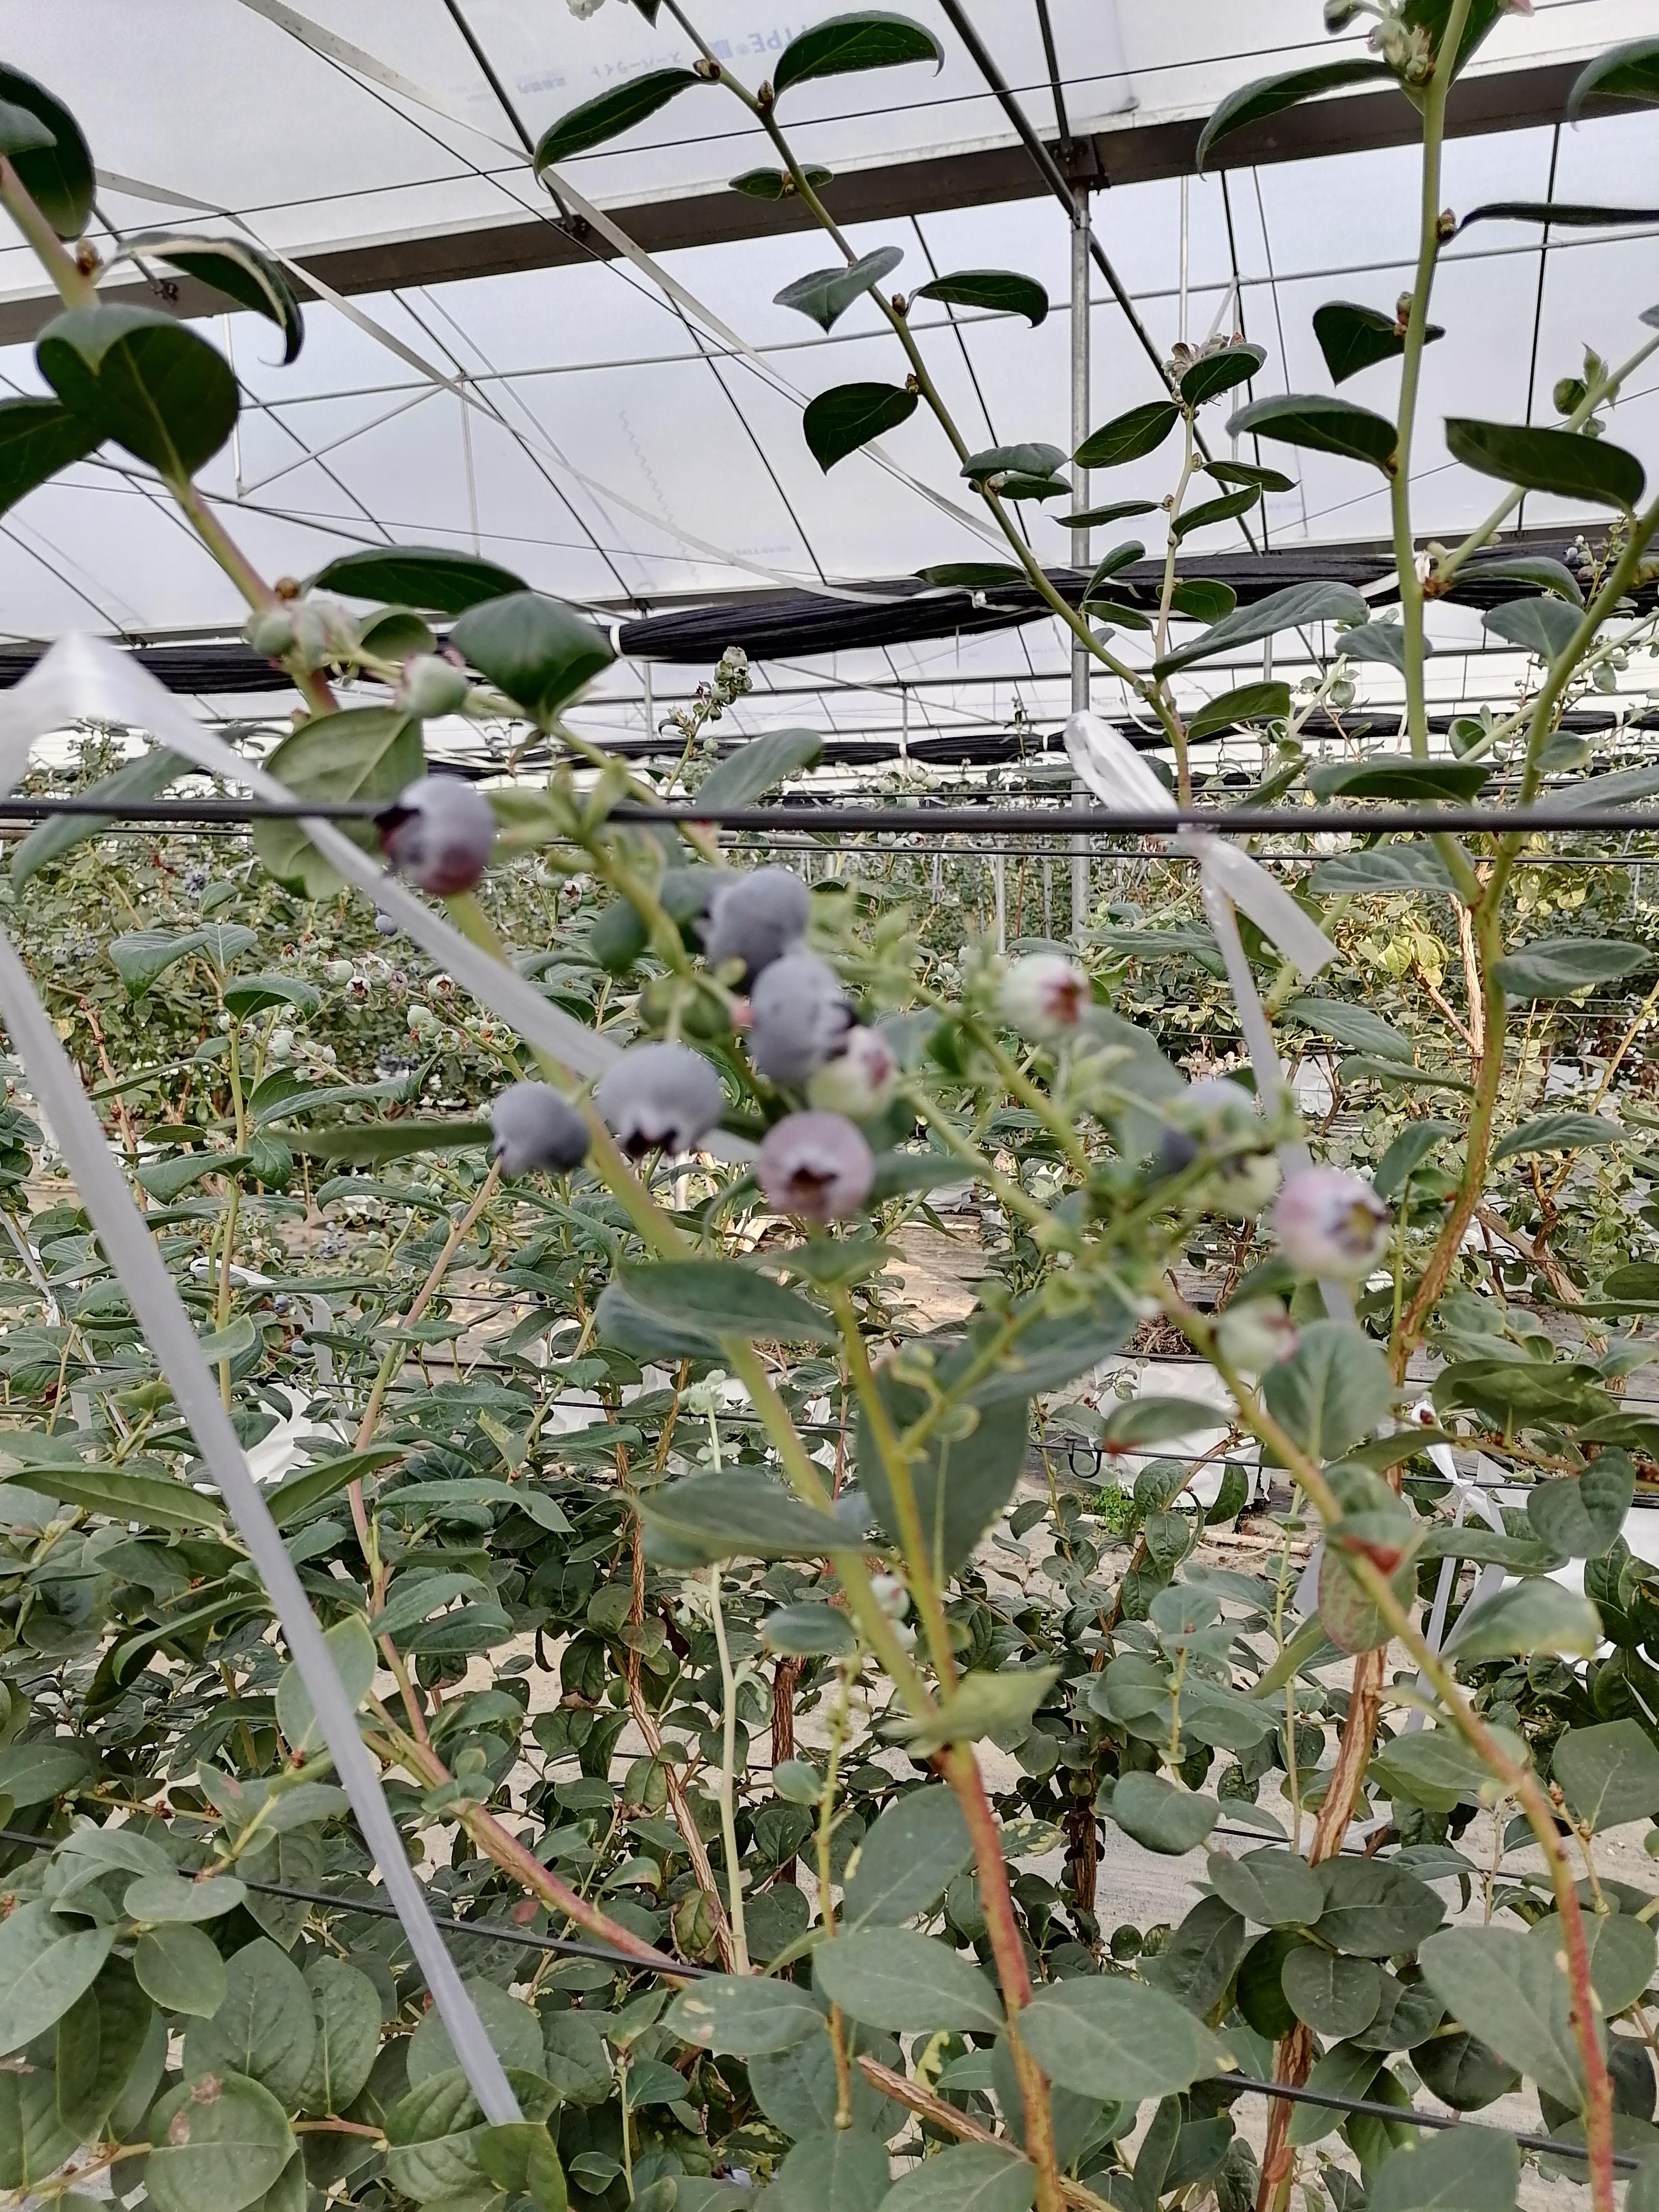ripe-blueberries: (749, 951, 861, 1089), (599, 1042, 725, 1160), (695, 867, 812, 995), (375, 775, 493, 897), (490, 1082, 592, 1177), (375, 914, 397, 937), (274, 1294, 289, 1313), (336, 1238, 347, 1249), (324, 1242, 335, 1252), (85, 948, 96, 958), (73, 948, 85, 956), (326, 1221, 335, 1231), (411, 1054, 420, 1062), (190, 883, 197, 892), (199, 880, 206, 888), (403, 1057, 410, 1064)
